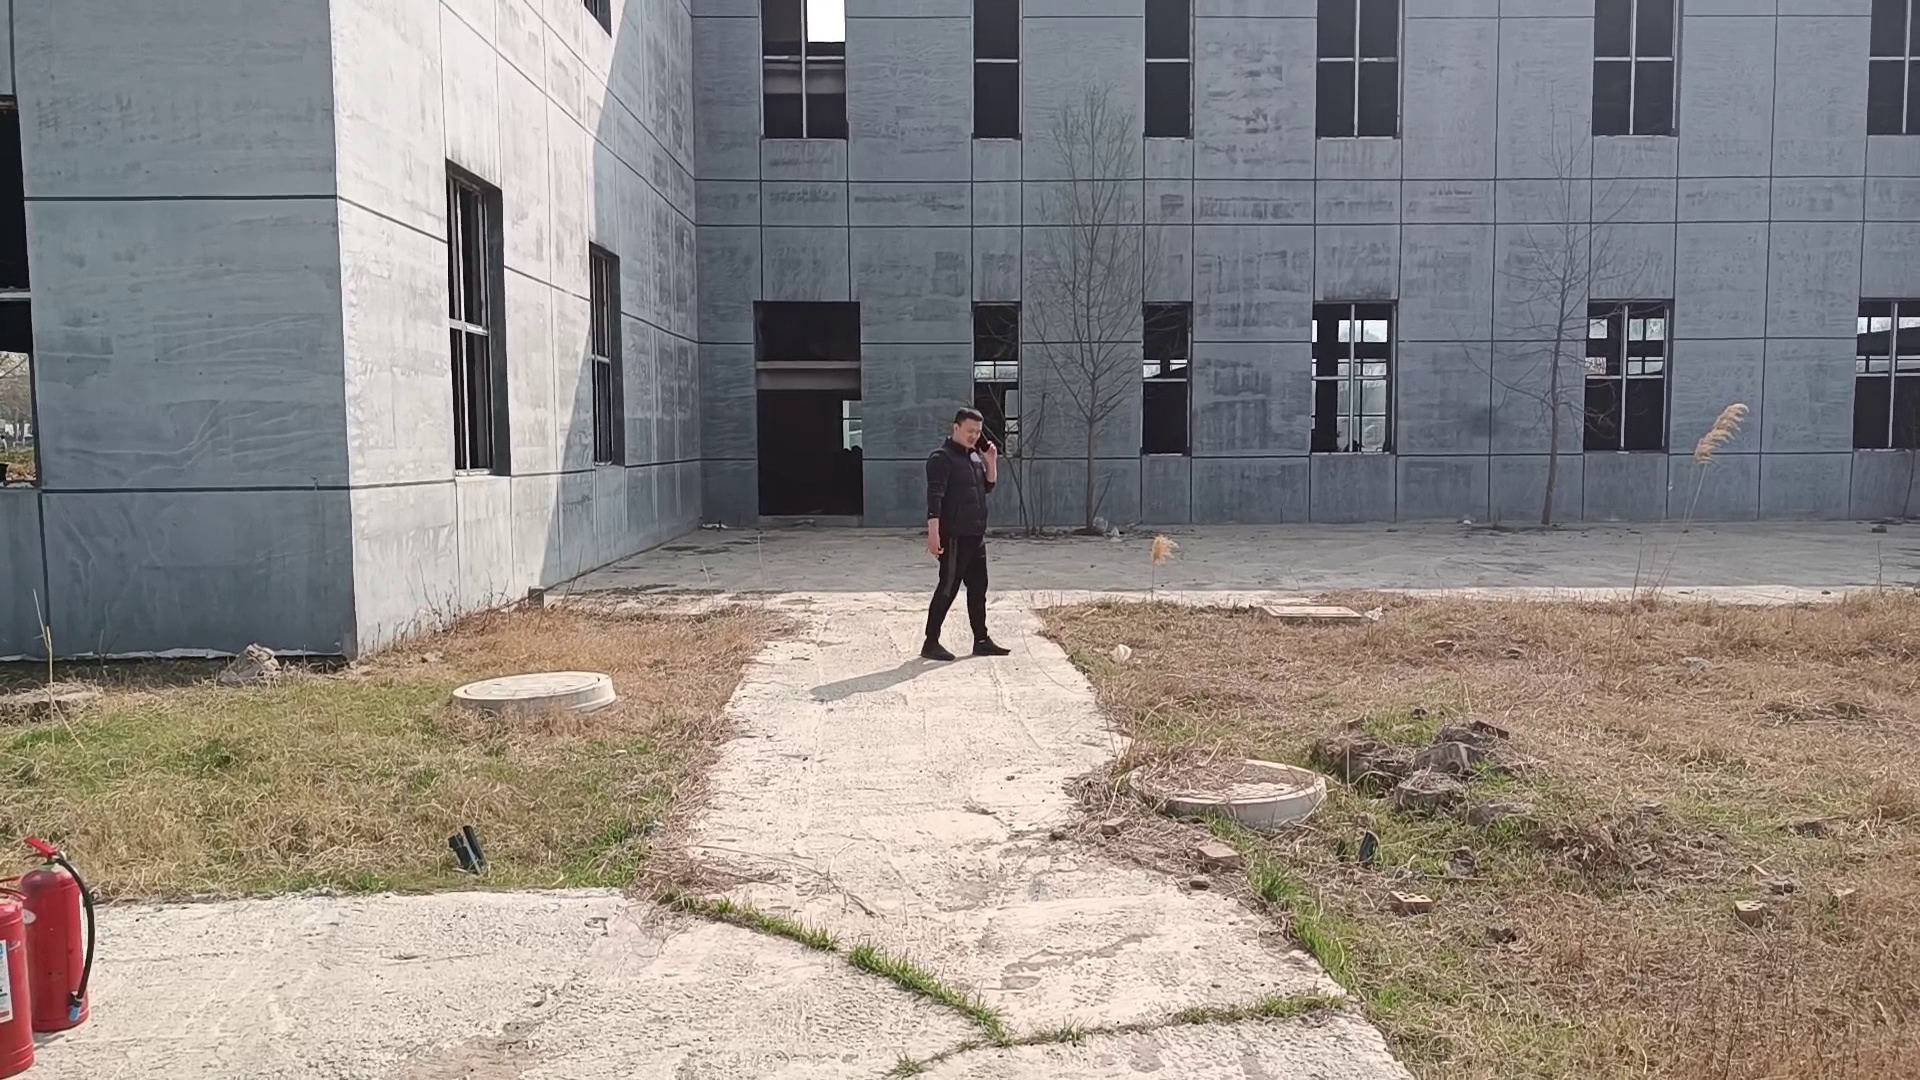phone: (944, 400, 997, 462)
